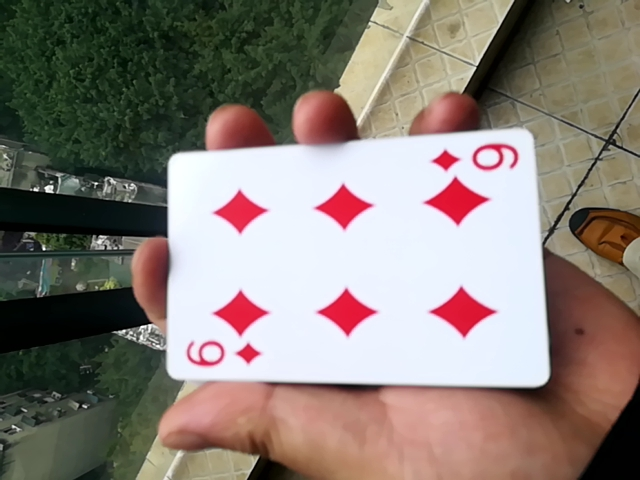fk 6: (147, 136, 552, 397)
